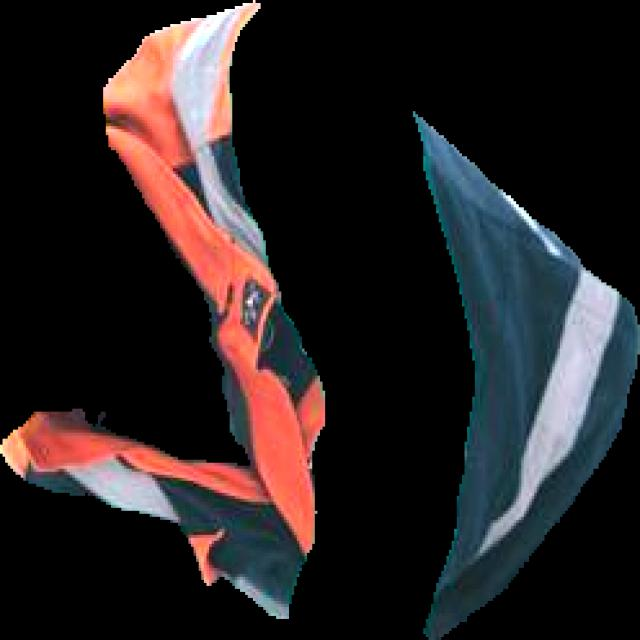Colete: (0, 0, 325, 618)
